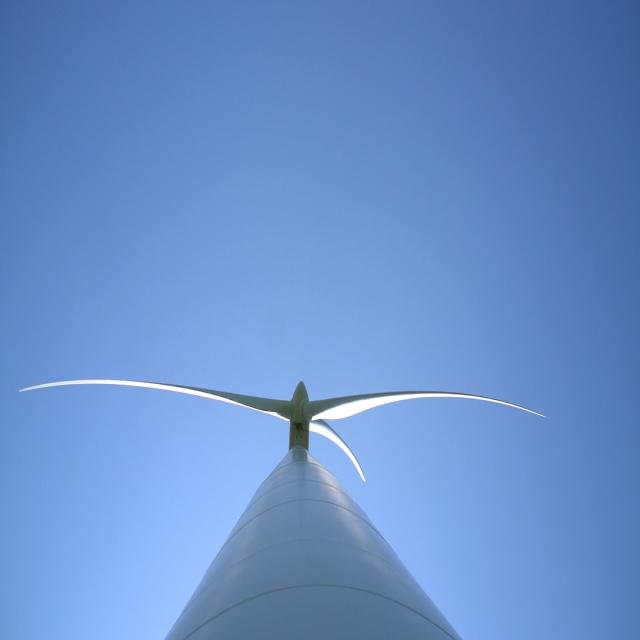blade 1: (335, 438, 363, 476)
blade 2: (32, 354, 280, 416)
blade 3: (332, 368, 582, 431)
